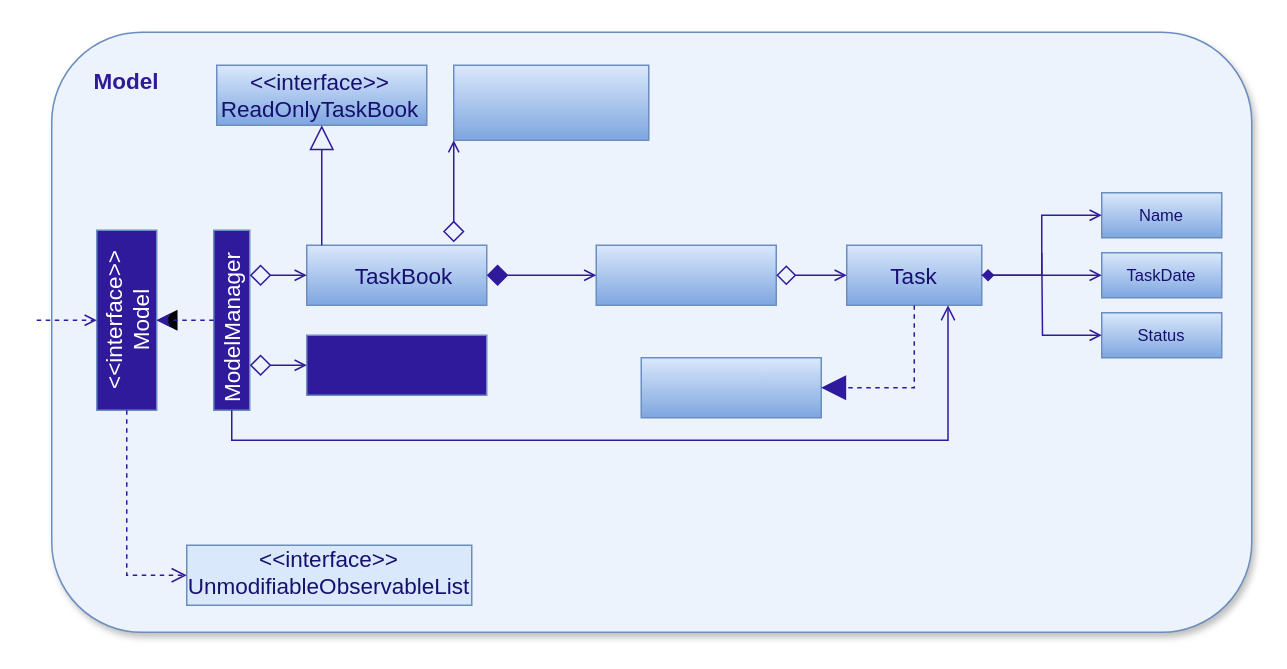
The diagram is 1287 pixels wide and 669 high, and some of its shapes have lost their labels. The shapes that lost their labels are listed below. From the top down, each one's centre as x and y in pixels, then its label:
At (x=550, y=102): "UndoTaskStack".
At (x=685, y=274): "UniqueTaskList".
At (x=396, y=364): "UserPrefs".
At (x=730, y=387): "<<interface>> ReadOnlyTask".
